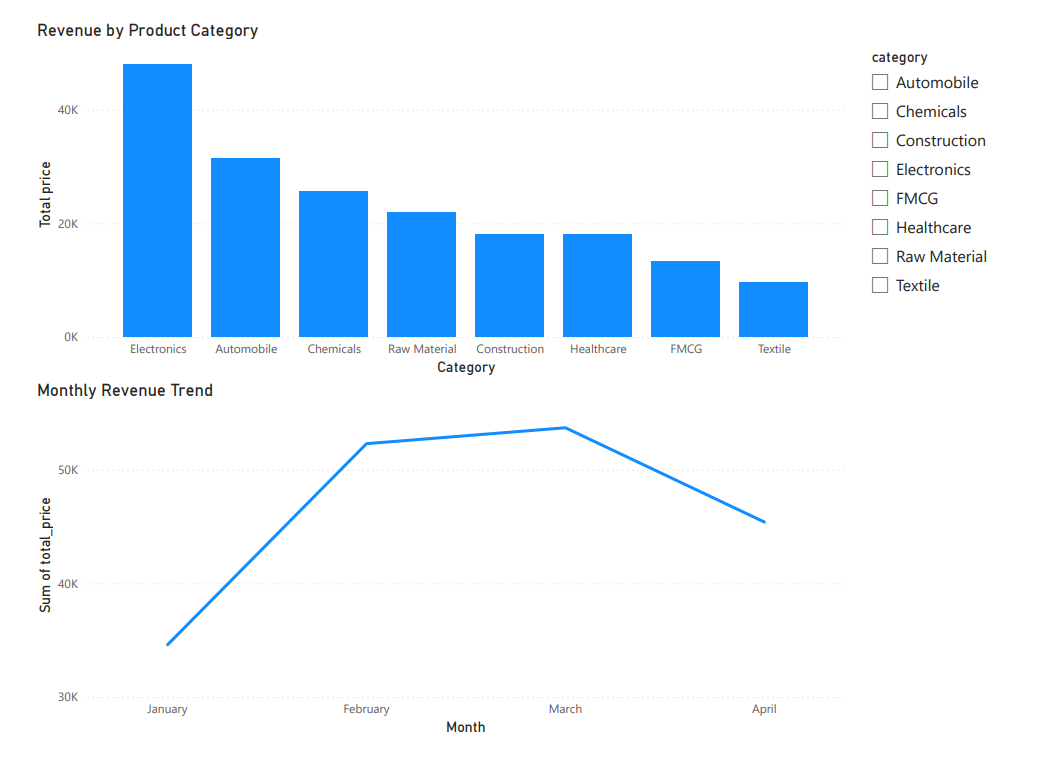

What the dashboard file says about the page in this screenshot:
{"tool":"powerbi","page":{"name":"Revenue Analysis","canvas":[1280,720],"ordinal":2},"visuals":[{"type":"clusteredColumnChart","title":"Revenue by Product Category","fields":{"Category":["logistics_db products.category"],"Y":["Sum(logistics_db shipment_items.total_price)"]},"box":[9.5,0,817.1,359.5],"z":0},{"type":"lineChart","title":" Monthly Revenue Trend","fields":{"Category":["logistics_db shipments.shipment_date.Variation.Date Hierarchy.Year","logistics_db shipments.shipment_date.Variation.Date Hierarchy.Quarter","logistics_db shipments.shipment_date.Variation.Date Hierarchy.Month","logistics_db shipments.shipment_date.Variation.Date Hierarchy.Day"],"Y":["Sum(logistics_db shipment_items.total_price)"]},"box":[9.5,359.5,816.1,360.6],"z":1000},{"type":"slicer","fields":{"Values":["logistics_db products.category"]},"box":[836.1,24.3,443.9,275.2],"z":2000}]}

Visuals, with their boxes on the page's 1280x720 design canvas (x1, y1, x2, y2). These are canvas units, not pixel positions in the 1044x757 screenshot, which may show the page scaled, cropped or inside an application window:
"Revenue by Product Category" clusteredColumnChart: rect(10, 0, 827, 360)
" Monthly Revenue Trend" lineChart: rect(10, 360, 826, 720)
slicer - logistics_db products.category: rect(836, 24, 1280, 300)
